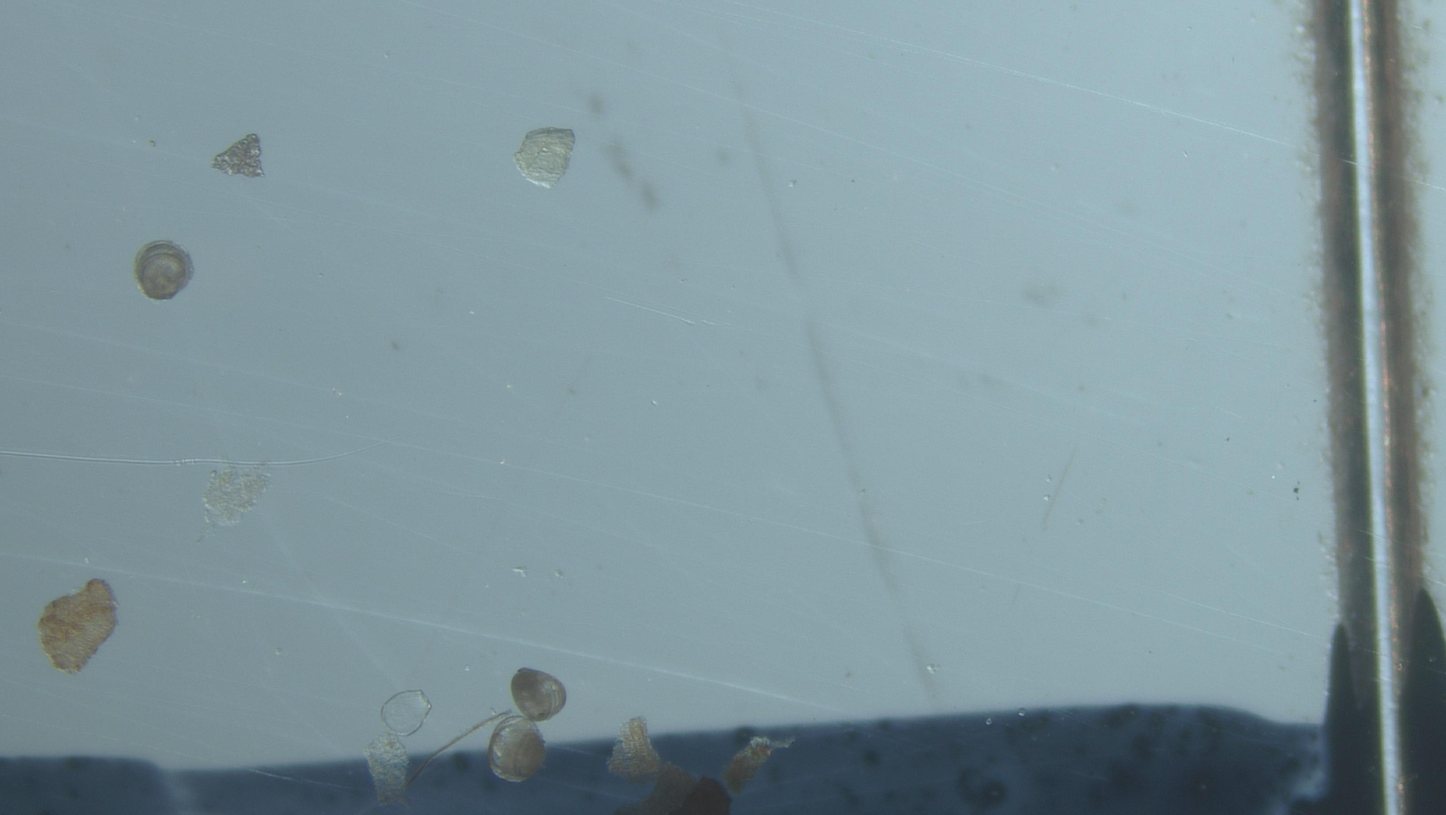dead: (381, 690, 432, 737)
live: (488, 716, 545, 782), (134, 241, 193, 300), (510, 668, 567, 722)
